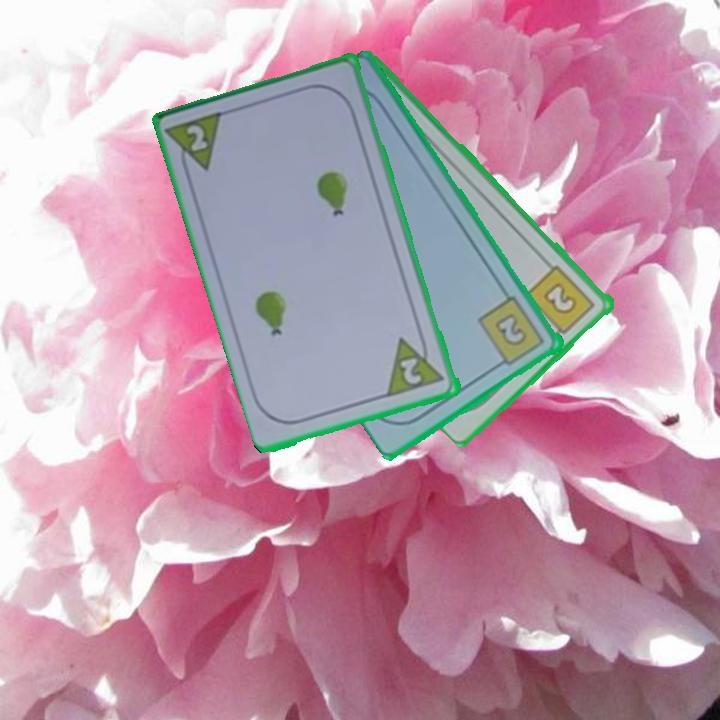2b: (523, 261, 599, 342), (475, 293, 549, 372)
2p: (164, 107, 228, 182), (397, 354, 425, 388)
